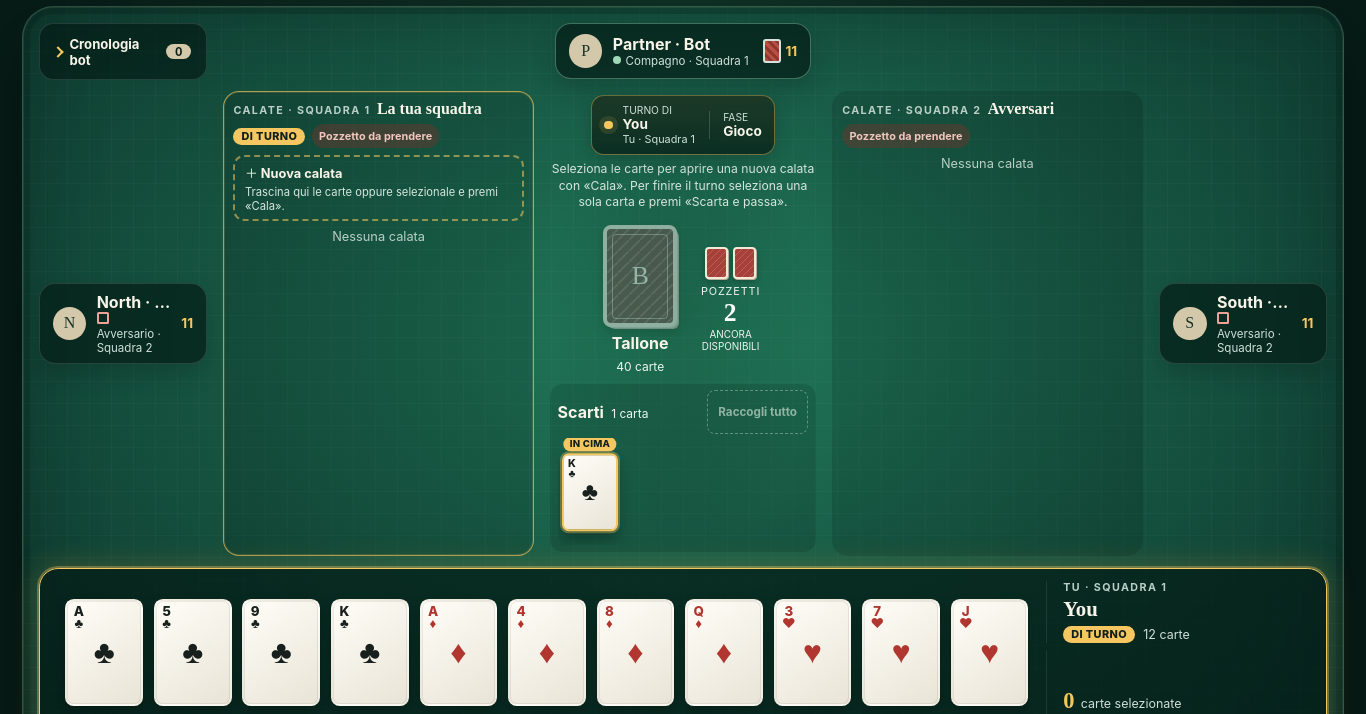
GameTable › automatically resolves all three bot turns and returns control to the human
Click the button "A ♣ ♣".
click(104, 652)  # box x1=65 y1=598 x2=143 y2=706
(page scrolled)
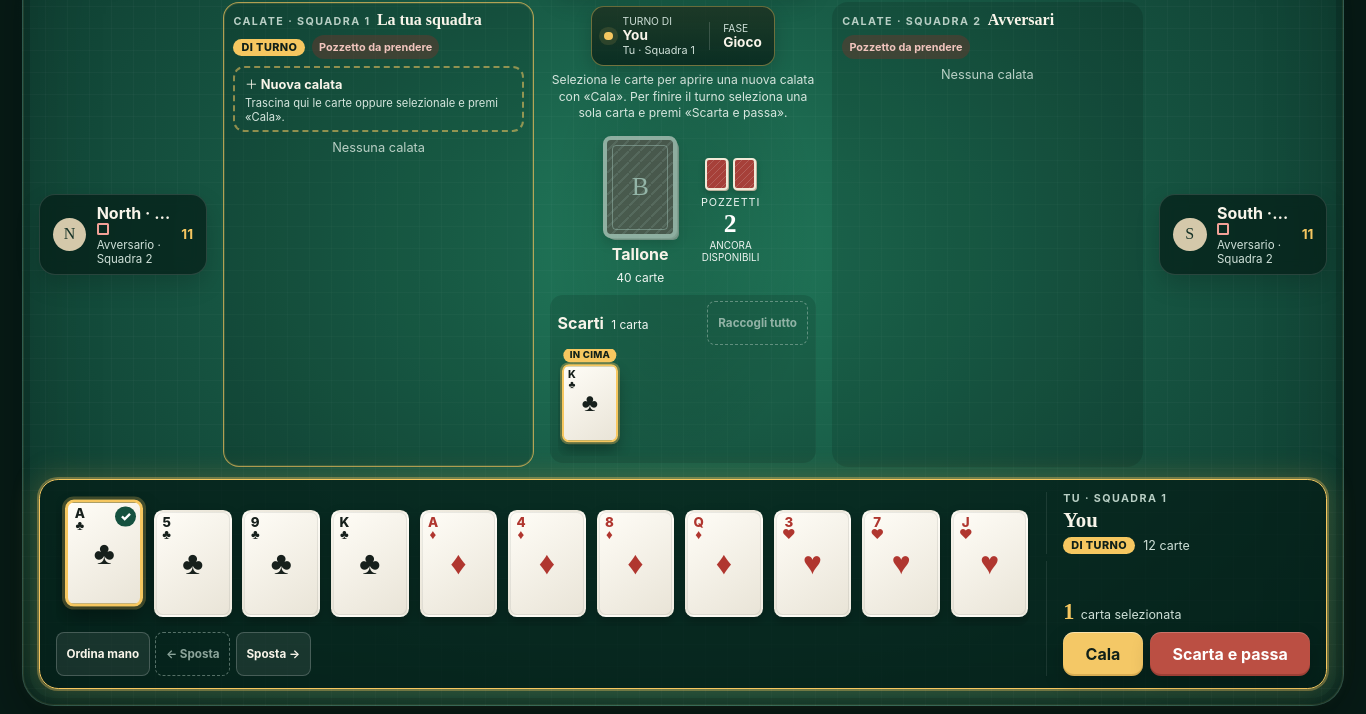
Click the button "Scarta e passa".
click(1230, 654)  # box x1=1150 y1=632 x2=1310 y2=676
(page scrolled)
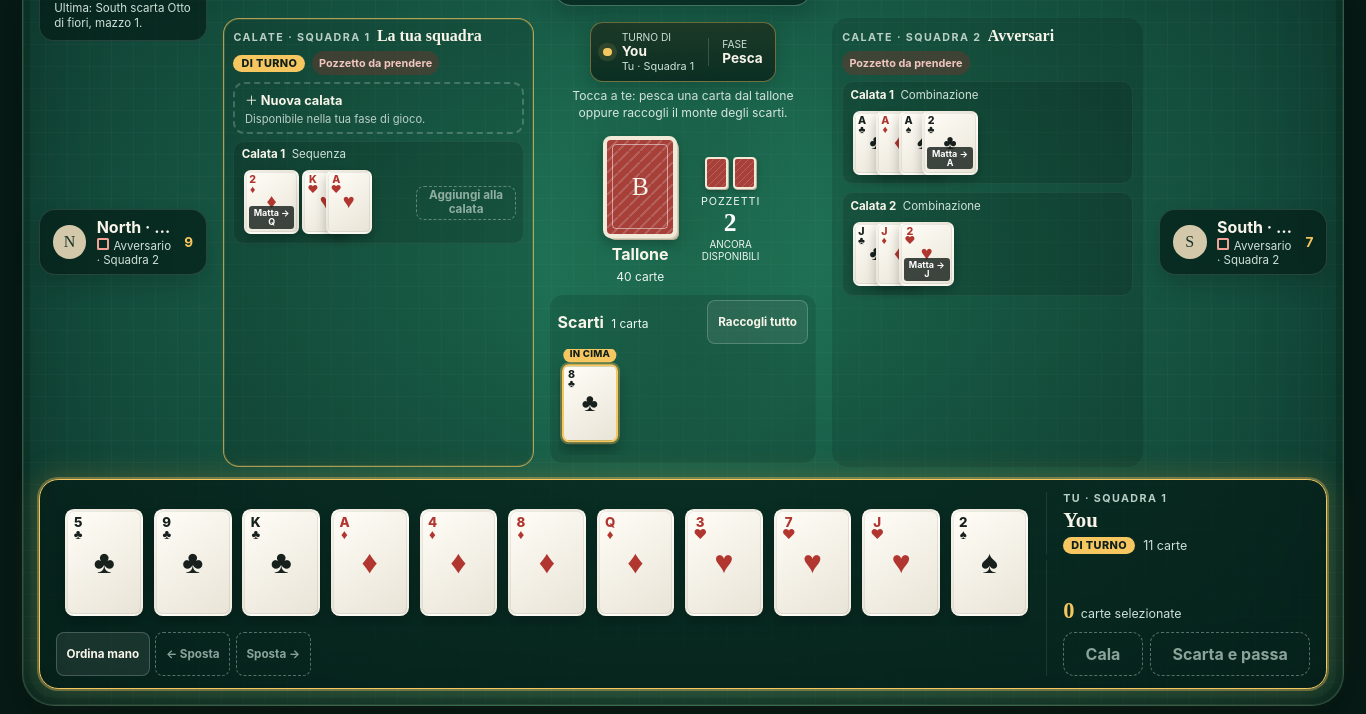
expect the element named "Mano di You" is shown: met, box x1=39 y1=478 x2=1327 y2=688
expect the text "Pesca" is shown: met, box x1=722 y1=50 x2=763 y2=66
